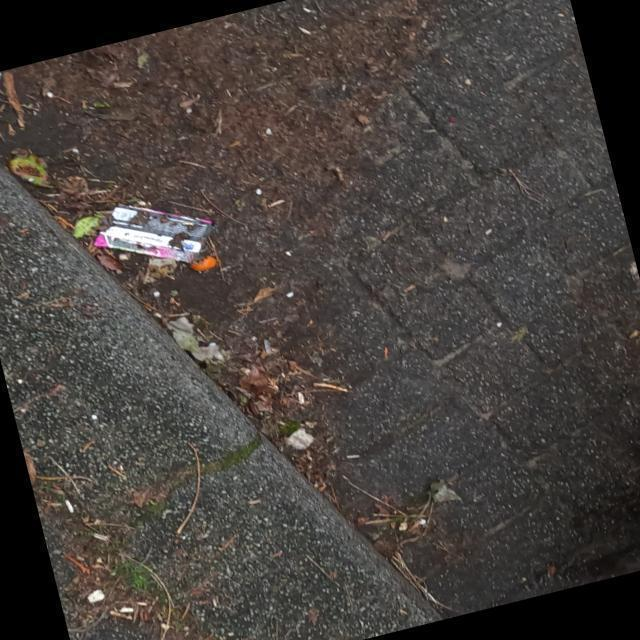Paper: (90, 200, 214, 268)
